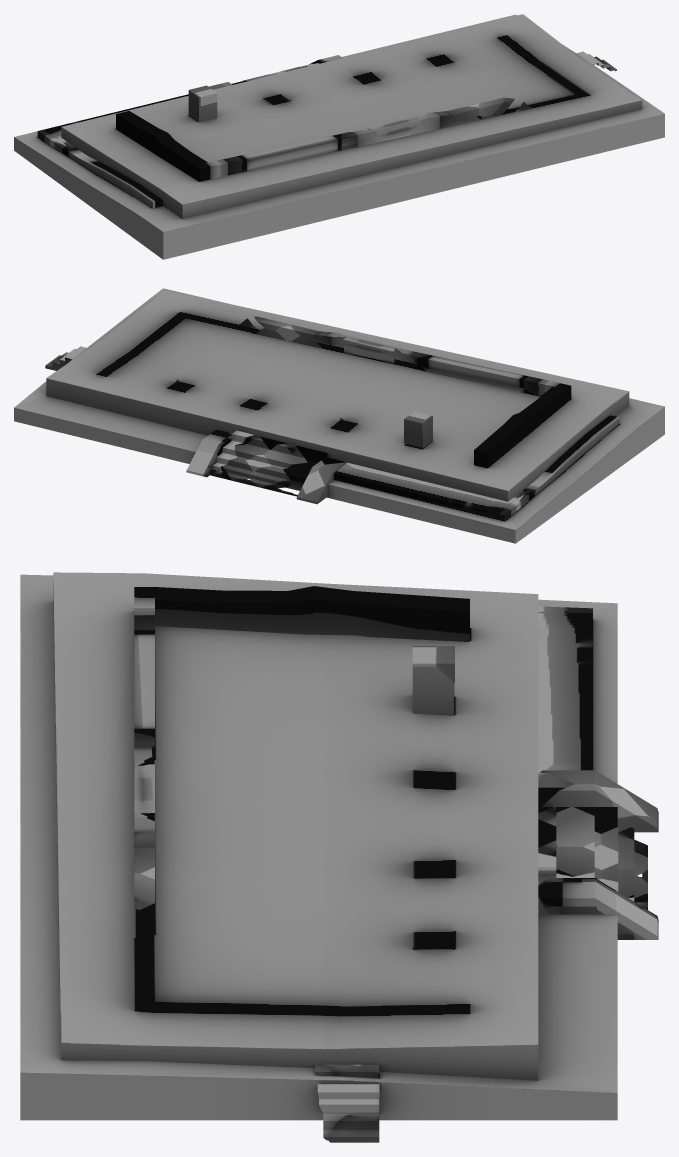
The model's file is Estructura le treseichon.fbx.
The picture shows the model from 3 angles, top to bottom: view 1: azimuth 30°, elevation 25°; view 2: azimuth 150°, elevation 25°; view 3: azimuth 270°, elevation 25°; orthographic projection. The views are drawn at different scales.
Parts seen in each view (by area): view 1: Cube.003; view 2: Cube.003; view 3: Cube.003.
Part boxes in pixels (left/top/right/bottom): Cube.003: left=14, top=14, right=664, bottom=259; Cube.003: left=14, top=288, right=664, bottom=543; Cube.003: left=20, top=572, right=658, bottom=1142.
Size of the model in its own units: 21.6 by 2.25 by 11.27.
1 material, 1 textured.
